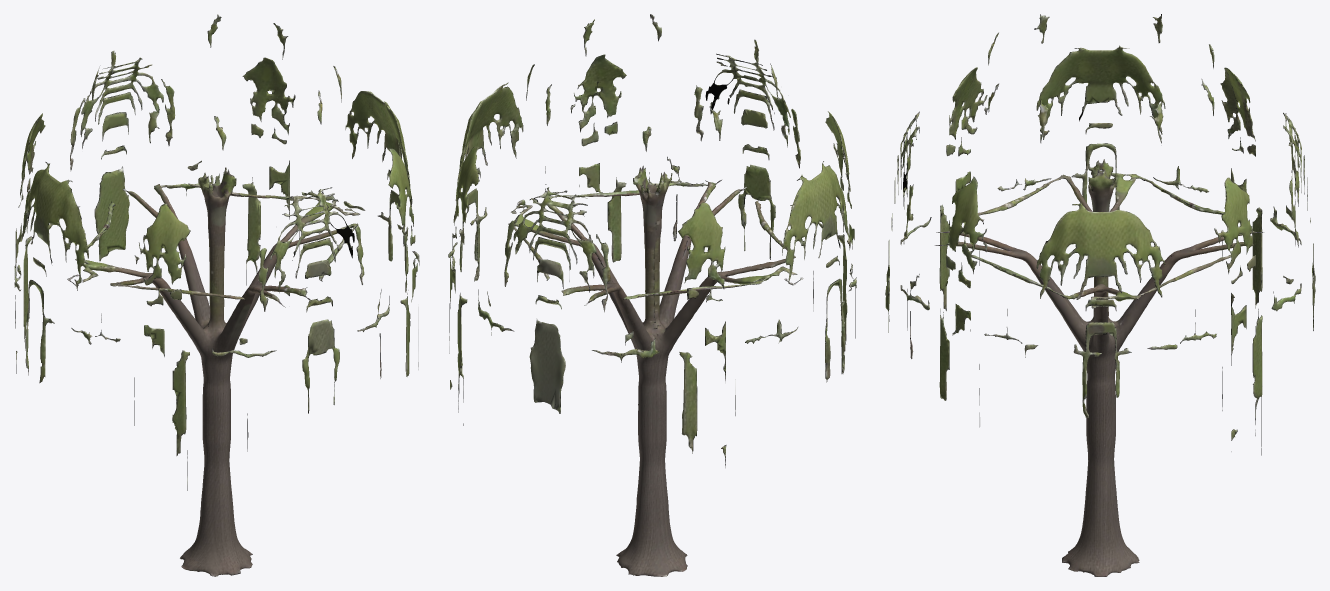
Rendered from willow_tree.glb.
3 renders of one model, left to right at view 1: azimuth 30°, elevation 25°; view 2: azimuth 150°, elevation 25°; view 3: azimuth 270°, elevation 25°, orthographic.
Parts seen in each view (by area): view 1: model; view 2: model; view 3: model.
Part boxes in pixels (box(x1,y1,x2,y2)): model: box(14, 14, 419, 576); model: box(448, 14, 856, 576); model: box(885, 14, 1315, 576).
Bounding box in the file's own units: 1.43 × 1.84 × 1.42.
Materials: 1 (1 with a texture image).
